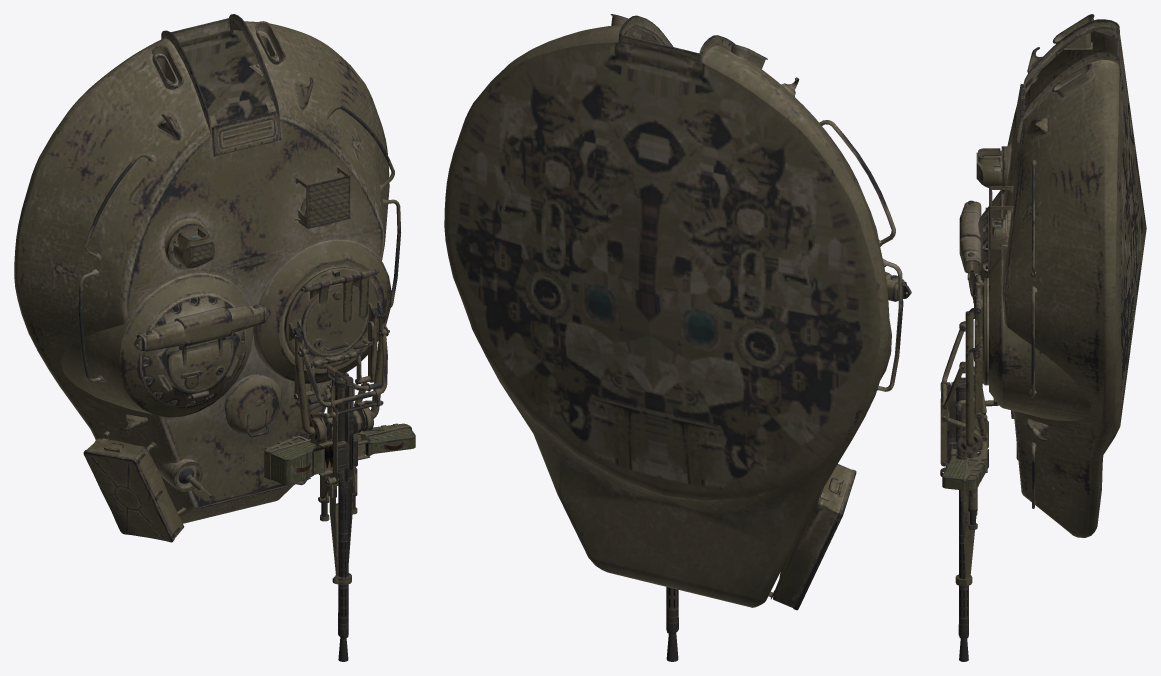
Rendered from Turret_02.glb.
3 renders of one model, left to right at view 1: azimuth 30°, elevation 25°; view 2: azimuth 150°, elevation 25°; view 3: azimuth 270°, elevation 25°, orthographic. The views are drawn at different scales.
Parts seen in each view (by area): view 1: set_0_group_1, set_0_group_0; view 2: set_0_group_1, set_0_group_0; view 3: set_0_group_1, set_0_group_0.
Boxes of the visible parts, bbox=[...] form: set_0_group_1: bbox=[14, 14, 401, 523]; set_0_group_0: bbox=[83, 301, 415, 661]; set_0_group_1: bbox=[444, 14, 911, 607]; set_0_group_0: bbox=[666, 464, 856, 661]; set_0_group_1: bbox=[959, 14, 1146, 537]; set_0_group_0: bbox=[940, 308, 1018, 661].
Size of the model in its own units: 2.77 by 4.26 by 1.35.
2 materials, 2 textured.
